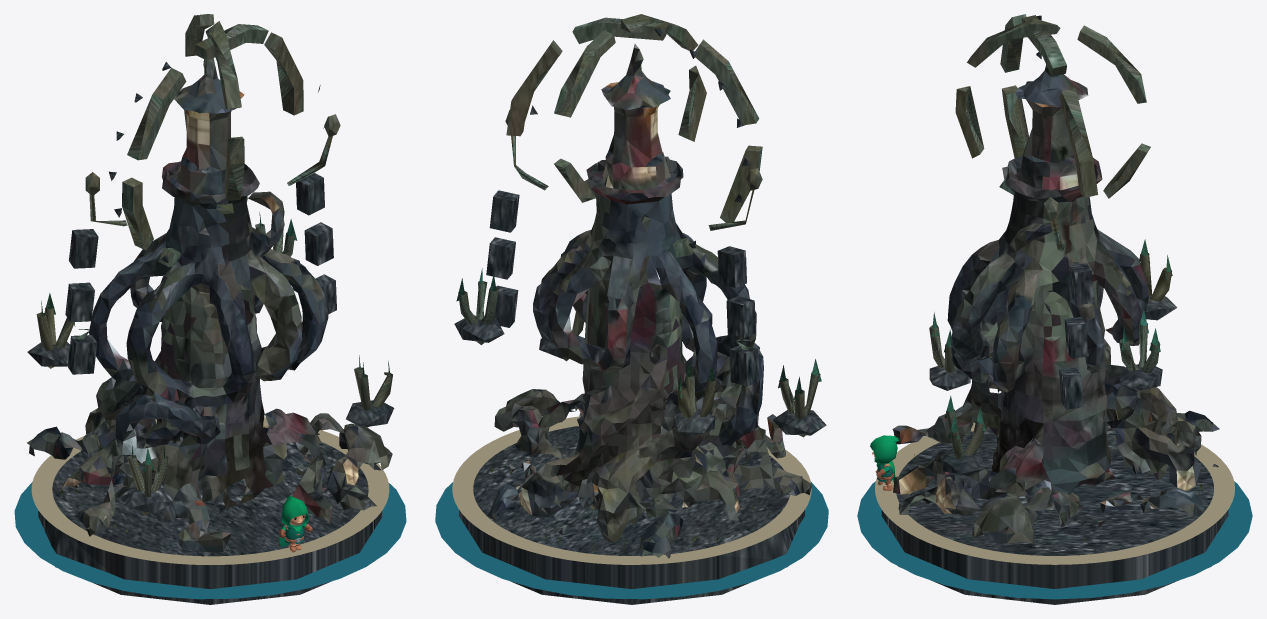
3 views of the same model, side by side, from view 1: azimuth 30°, elevation 25°; view 2: azimuth 150°, elevation 25°; view 3: azimuth 270°, elevation 25° (orthographic).
Visible parts, largest first — view 1: Deep Sea Lighthouse, Broken armillary and floating coral, basalt-plinth, Distant coastal scenery; view 2: Deep Sea Lighthouse, Broken armillary and floating coral, basalt-plinth, Distant coastal scenery; view 3: Deep Sea Lighthouse, basalt-plinth, Broken armillary and floating coral, Distant coastal scenery.
Part boxes in pixels (box(x1,y1,x2,y2)): Deep Sea Lighthouse: box(27, 58, 392, 552); Broken armillary and floating coral: box(27, 14, 394, 515); basalt-plinth: box(38, 433, 382, 604); Distant coastal scenery: box(14, 417, 406, 599); Deep Sea Lighthouse: box(487, 44, 812, 558); Broken armillary and floating coral: box(454, 14, 826, 438); basalt-plinth: box(459, 426, 804, 604); Distant coastal scenery: box(435, 416, 828, 599); Deep Sea Lighthouse: box(892, 64, 1219, 544); basalt-plinth: box(881, 426, 1228, 604); Broken armillary and floating coral: box(929, 14, 1176, 476); Distant coastal scenery: box(857, 422, 1252, 599).
Bounding box in the file's own units: 11.7 × 16.61 × 11.7.
2 materials, 2 textured.
